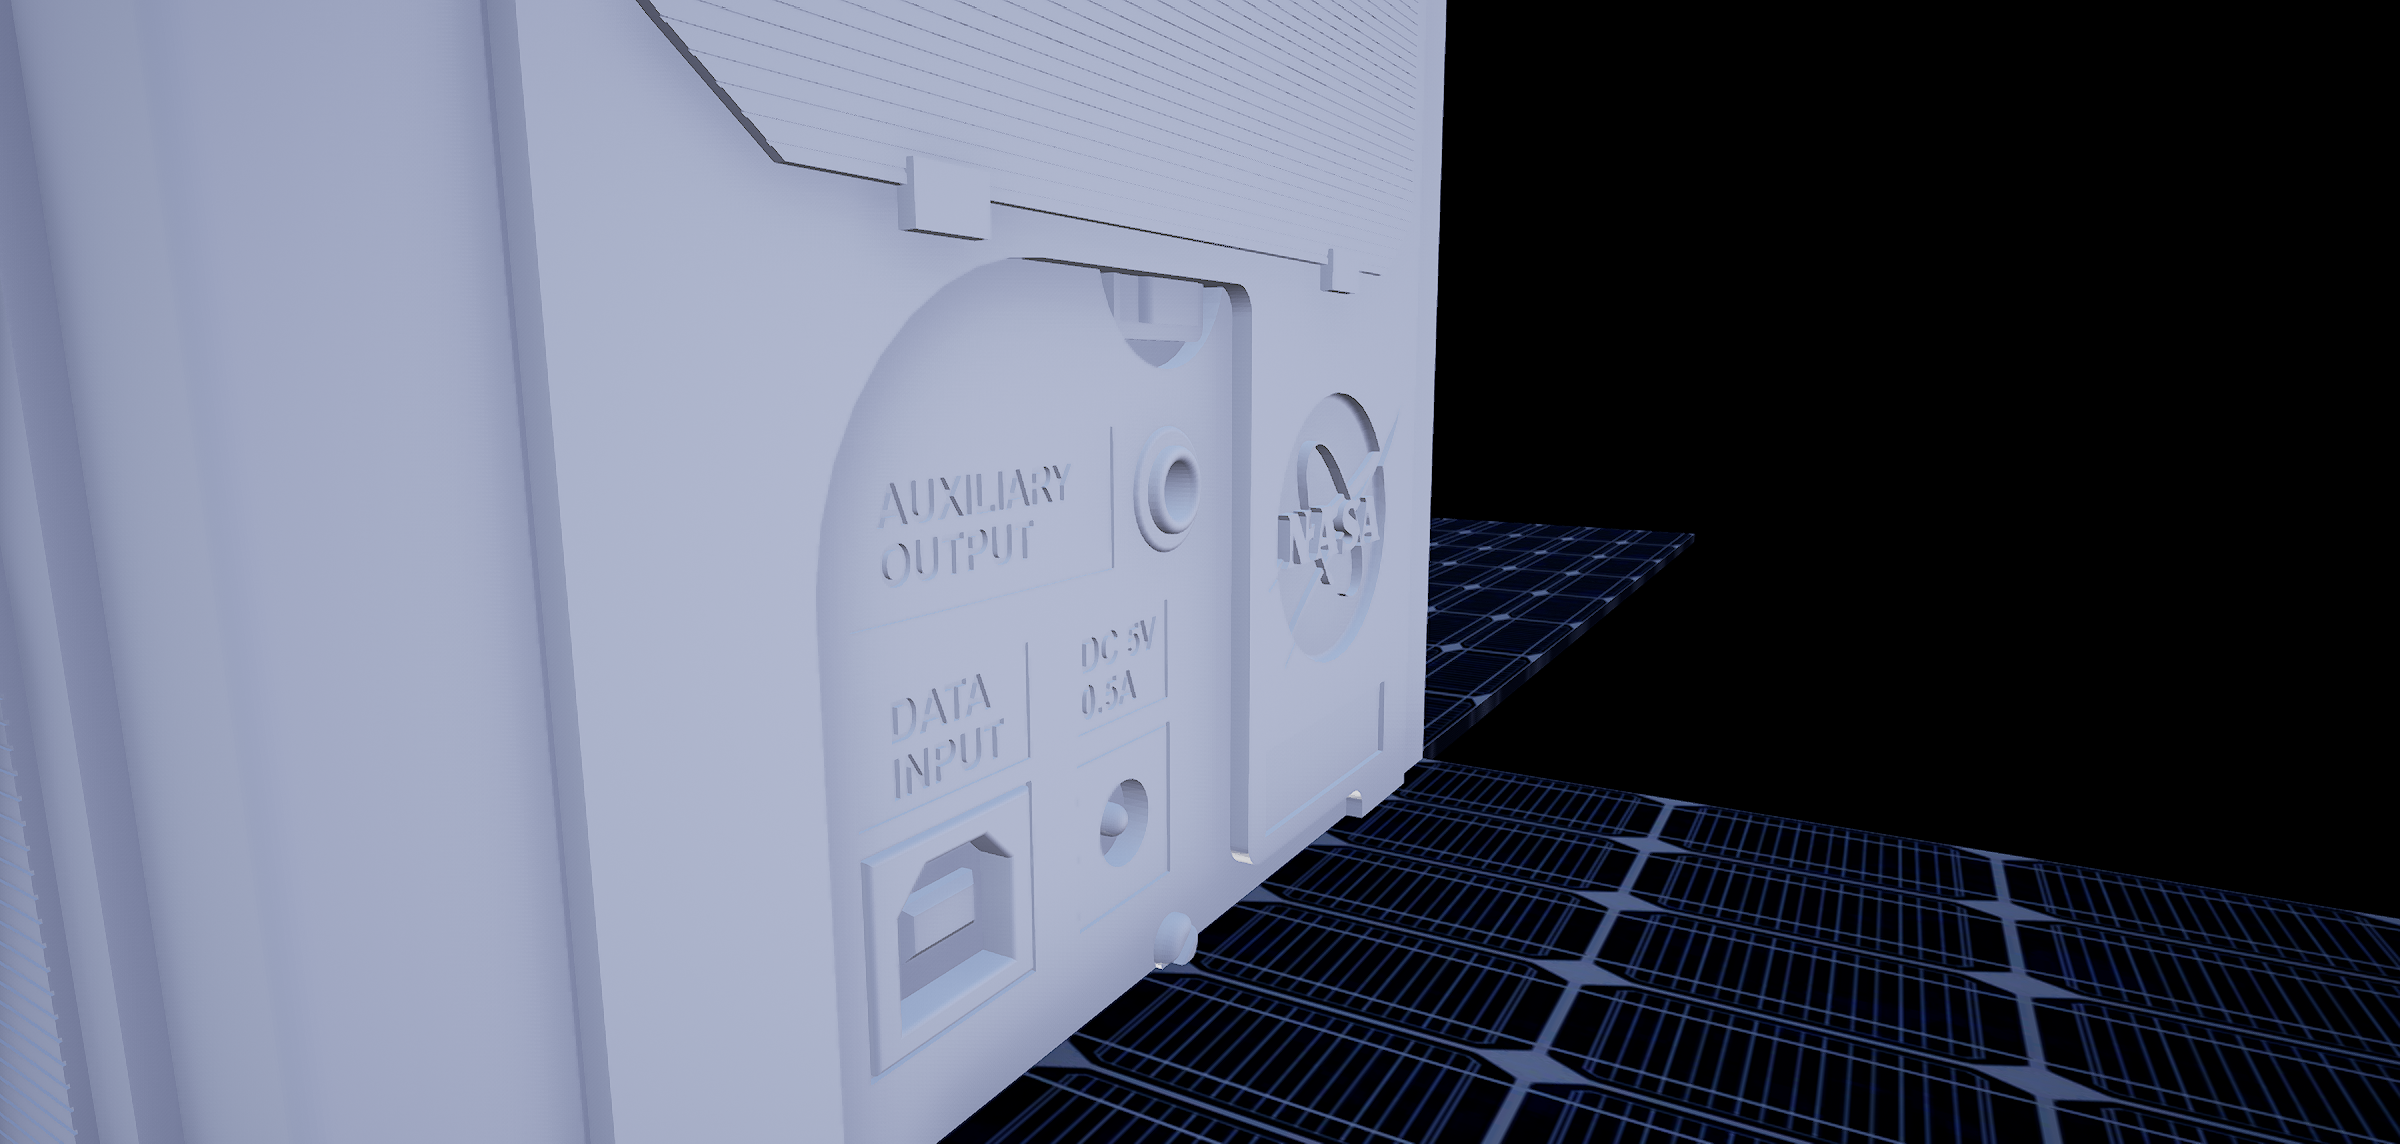aux: (1133, 418, 1214, 554)
dc: (1085, 764, 1174, 881)
usb: (880, 829, 1026, 1038)
